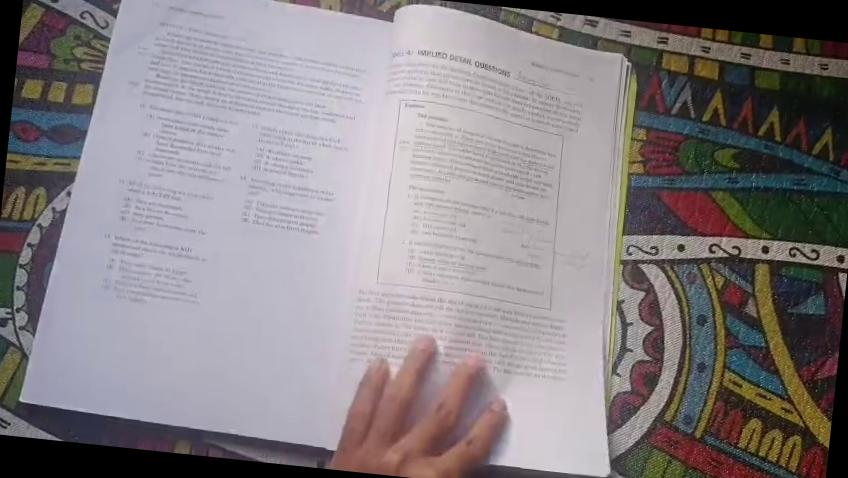Kertas: (82, 0, 378, 454), (360, 28, 630, 350)
